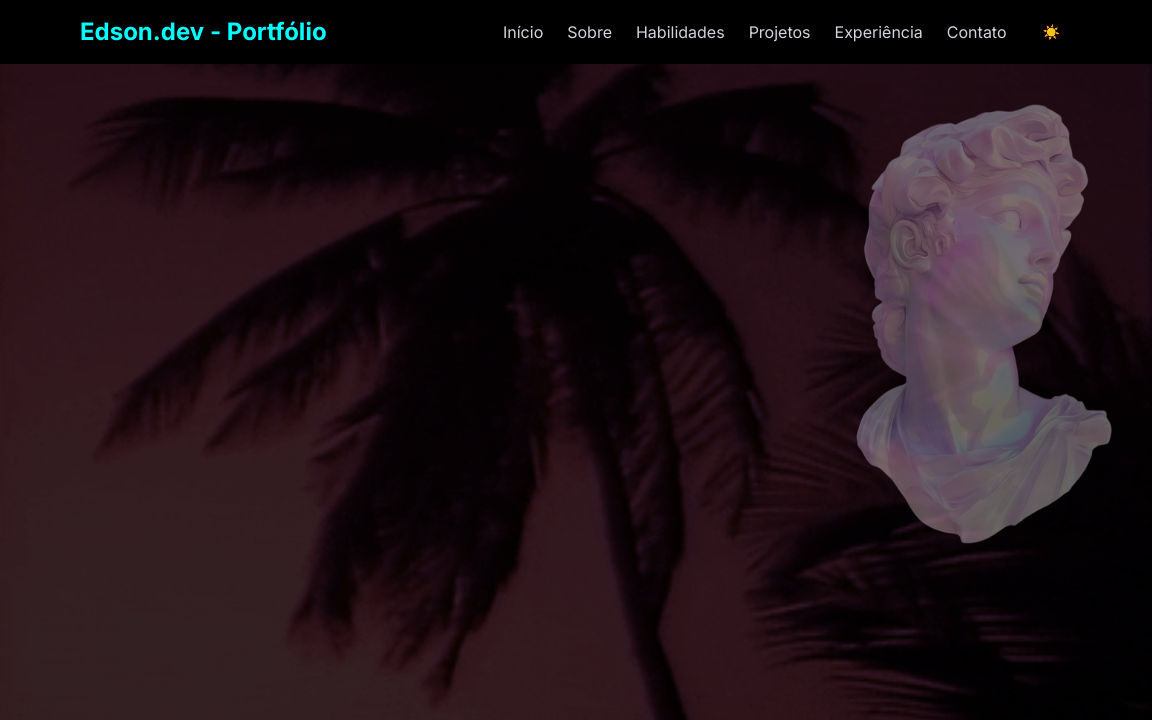
Test: Theme Toggle Integration › toggles theme from dark to light
Click the button named "Mudar para tema claro". click: (1051, 32)
box: [1030,16,1072,48]
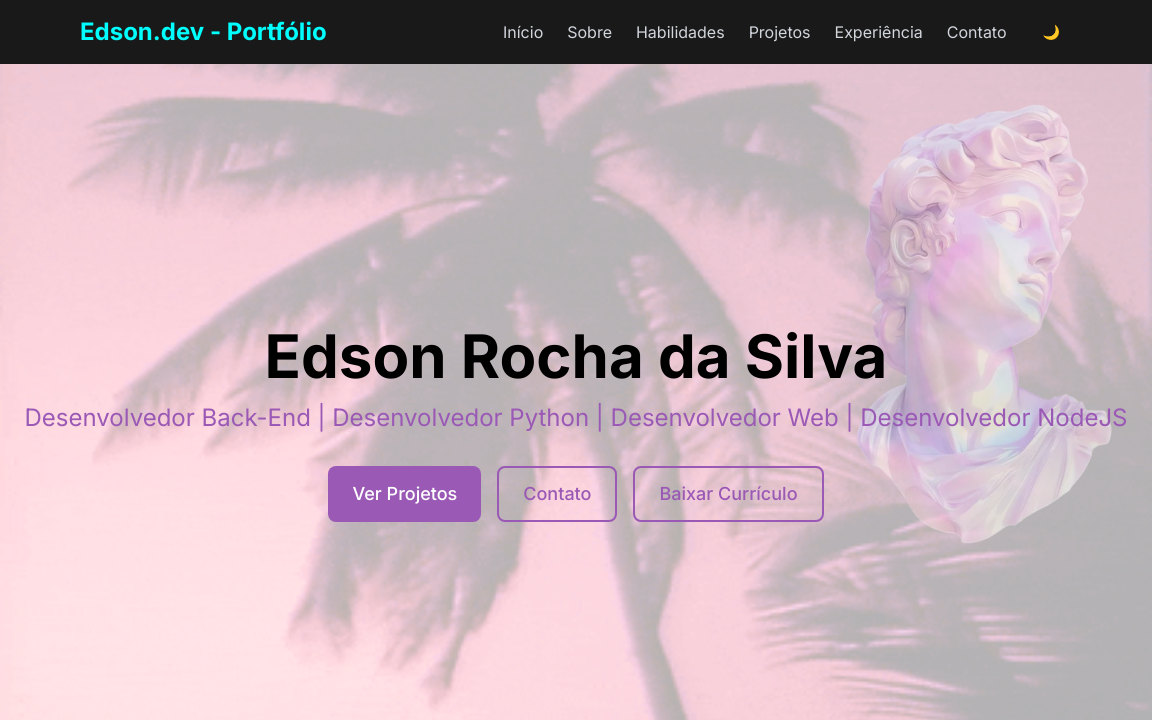
Expected: the button named "Mudar para tema escuro" is shown, [1030,16,1072,48]
